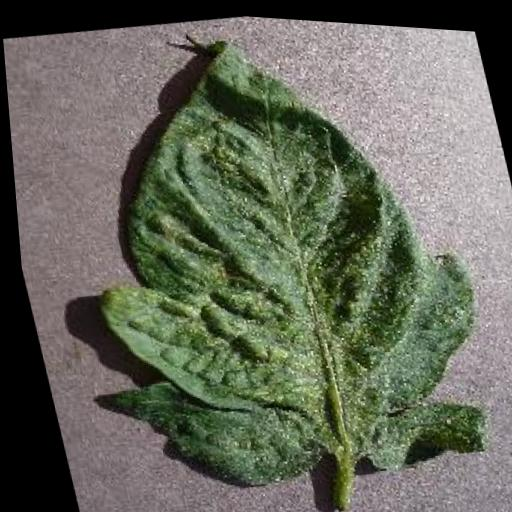Spider Mites: (9, 0, 508, 512)
